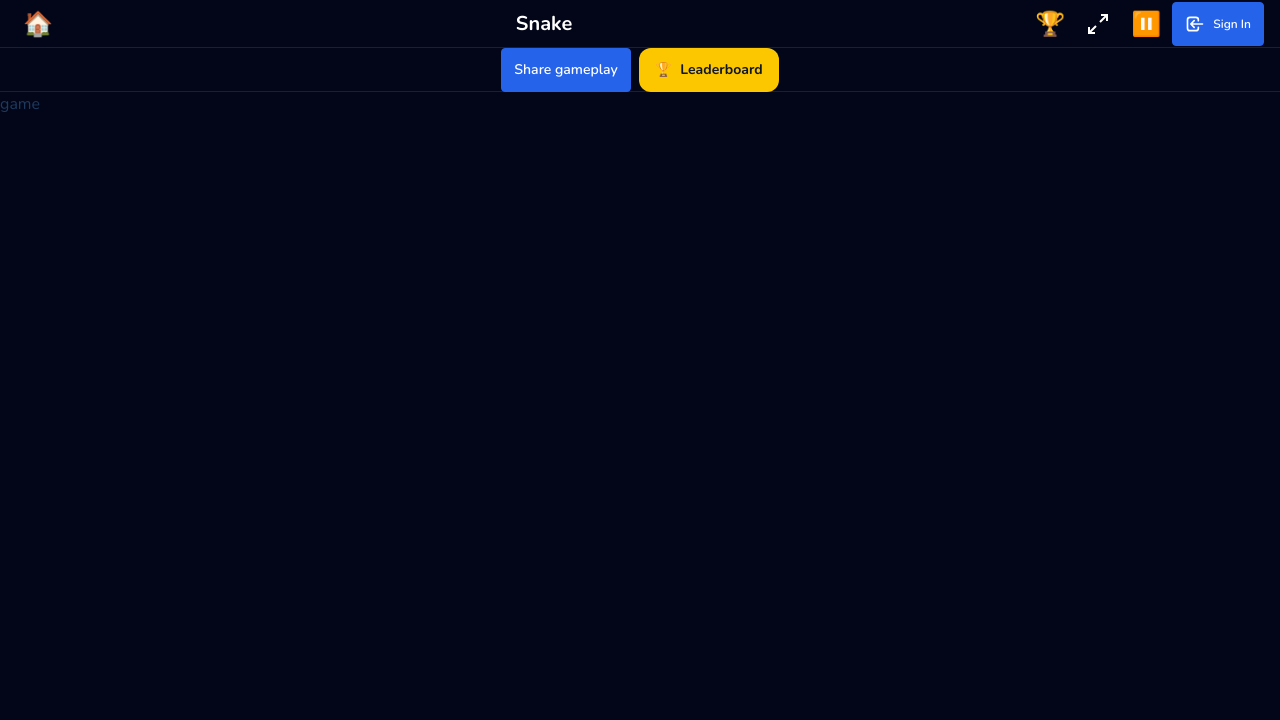
Test: AchievementCelebrations at a break › keeps a card the kid could not have seen: a break that ends before SEEN_MS
The image size is (1280, 720).
What coordinates should you click on to do the following:
click the button named "Pause game"
I would click on:
 (1146, 24)
Its box is [1124, 2, 1168, 46].
Wait 1400 ms
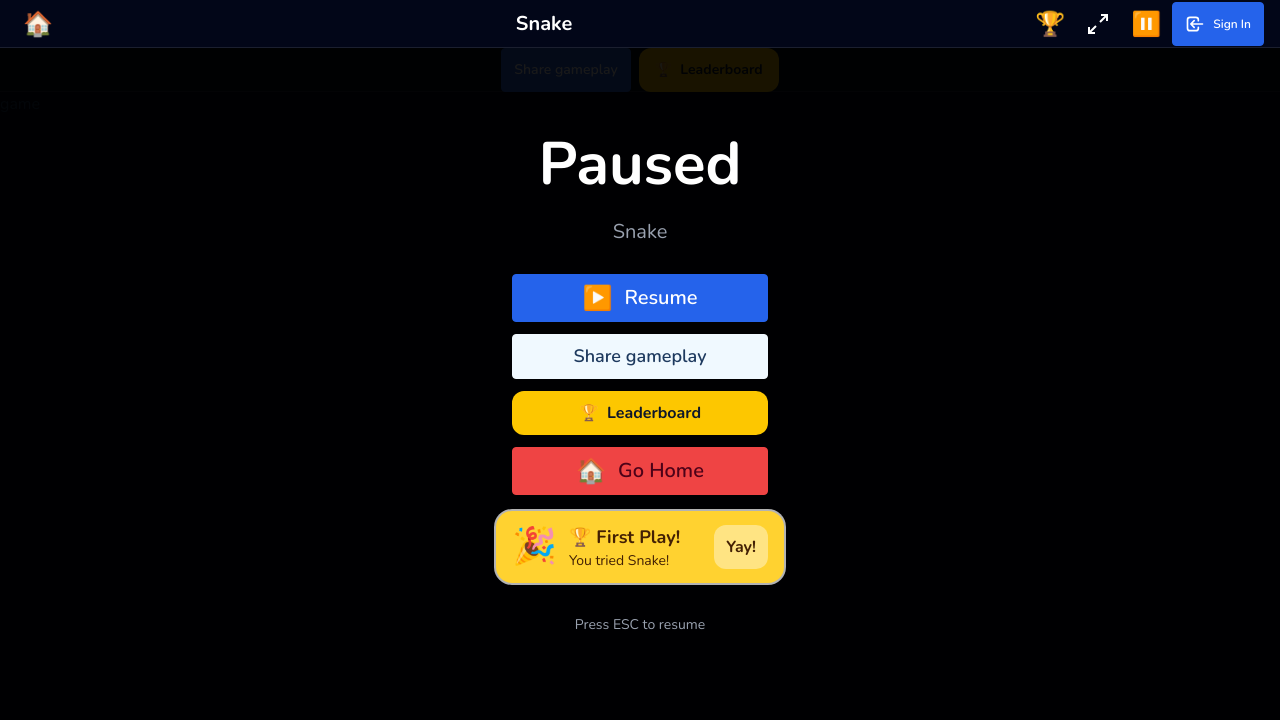
What coordinates should you click on to do the following:
click the button "▶️ Resume"
I would click on:
 (640, 298)
Its box is [512, 274, 768, 322].
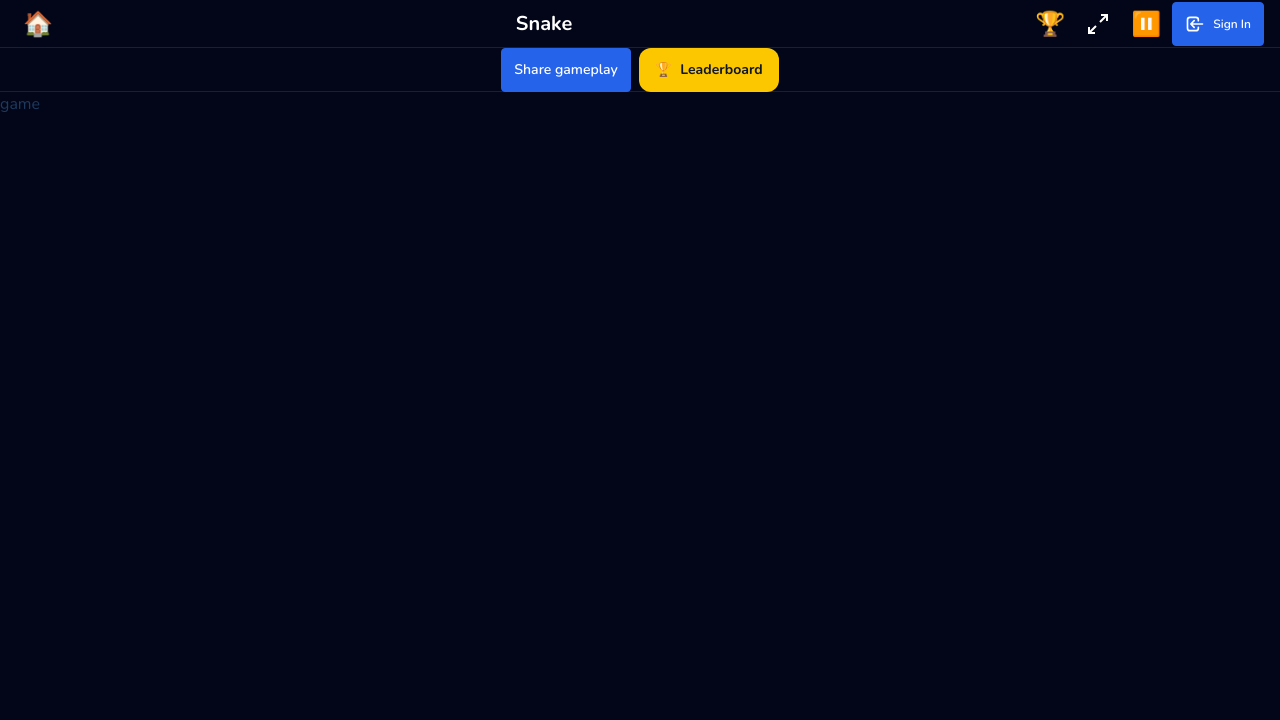
What coordinates should you click on to do the following:
click the button named "Pause game"
I would click on:
 (1146, 24)
Its box is [1124, 2, 1168, 46].
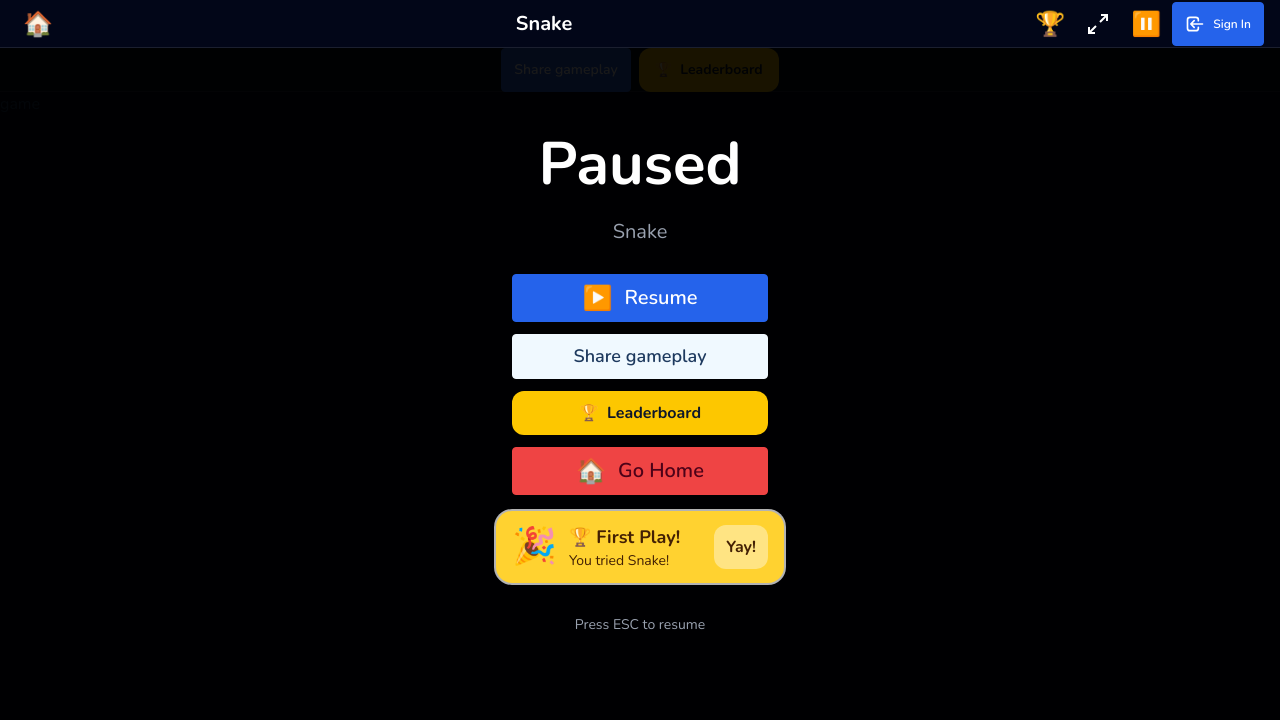
Expected: the message "🎉 🏆 First Play! You tried Snake! Yay!" is shown, [496, 510, 784, 582]
